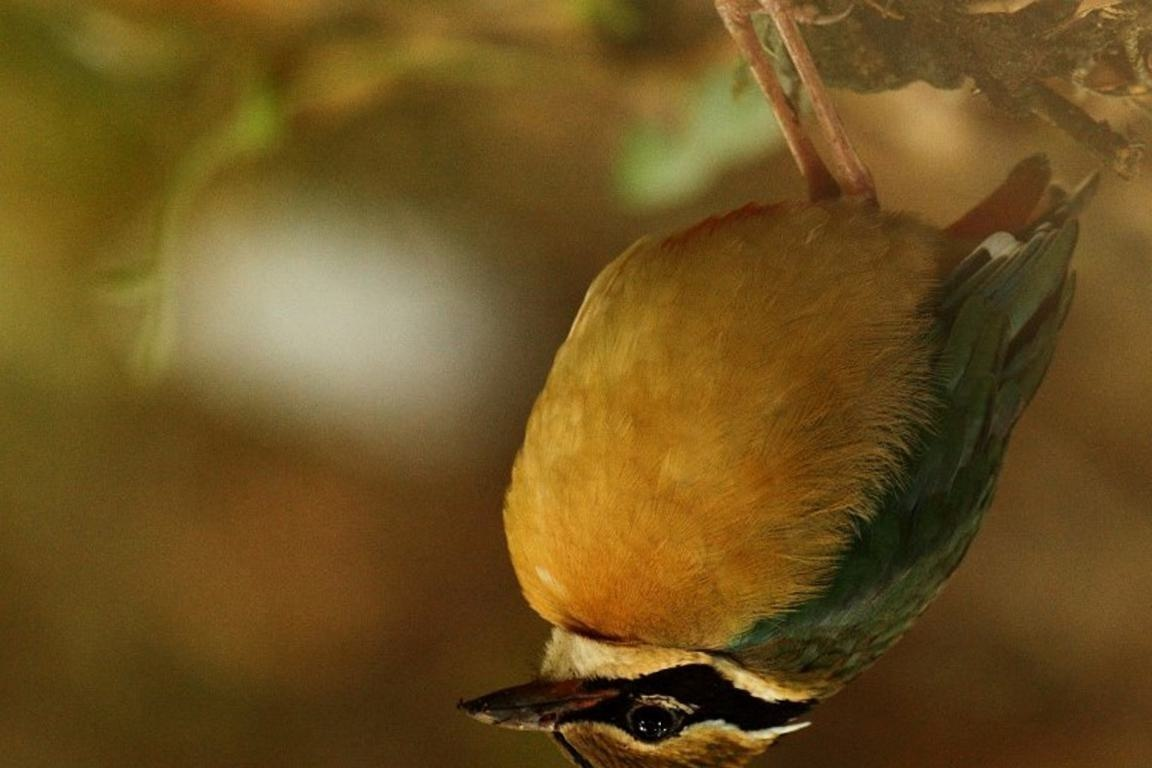pitta: (479, 140, 1045, 759)
